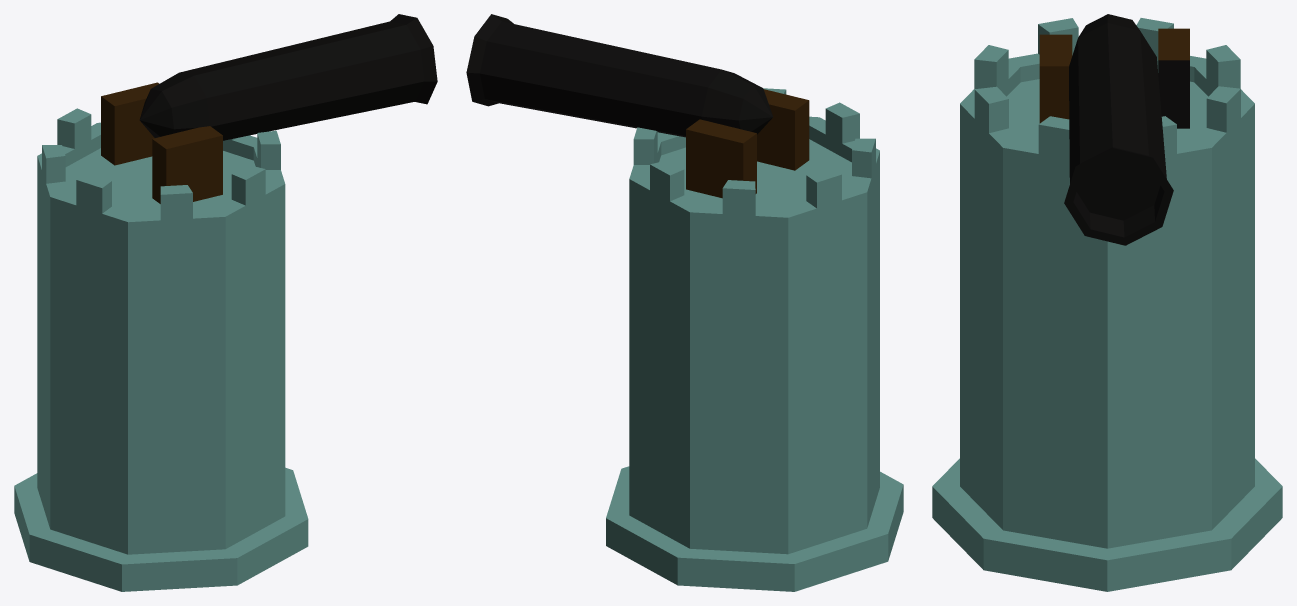
File: Torreta.fbx
The picture shows the model from 3 angles, left to right: view 1: azimuth 30°, elevation 25°; view 2: azimuth 150°, elevation 25°; view 3: azimuth 270°, elevation 25°; orthographic projection. The views are drawn at different scales.
Visible parts, largest first — view 1: Cylinder, Cylinder.001; view 2: Cylinder, Cylinder.001; view 3: Cylinder, Cylinder.001.
Boxes of the visible parts, bbox=[...] form: Cylinder: bbox=[14, 108, 308, 591]; Cylinder.001: bbox=[101, 14, 437, 203]; Cylinder: bbox=[606, 88, 903, 591]; Cylinder.001: bbox=[466, 14, 809, 198]; Cylinder: bbox=[932, 18, 1282, 591]; Cylinder.001: bbox=[1039, 14, 1189, 245].
Size of the model in its own units: 875 by 960 by 592.
